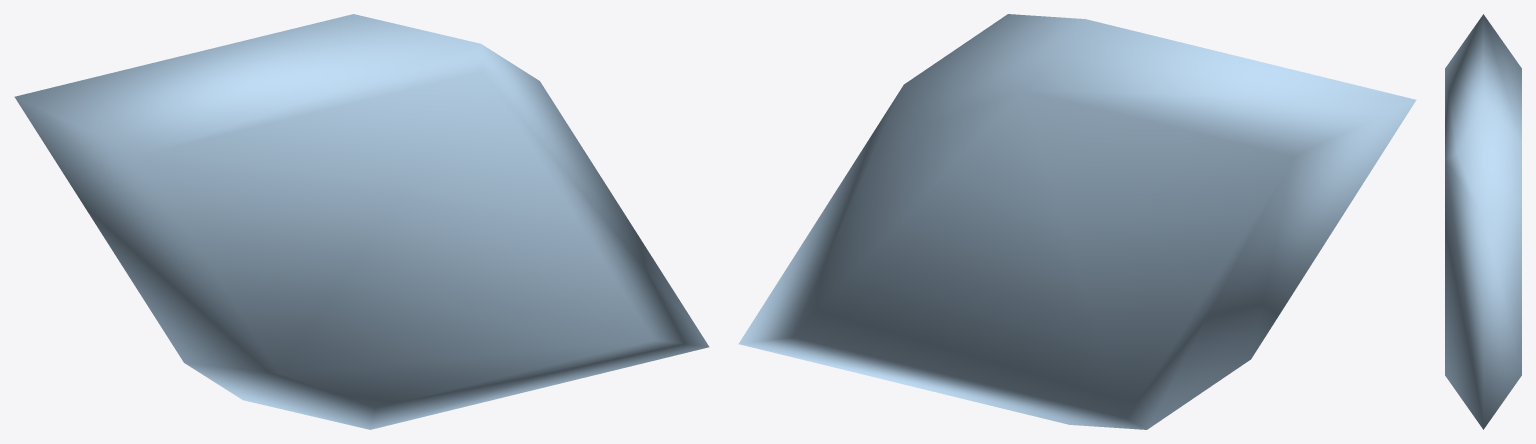
Rendered from ruby.glb.
The picture shows the model from 3 angles, left to right: view 1: azimuth 30°, elevation 25°; view 2: azimuth 150°, elevation 25°; view 3: azimuth 270°, elevation 25°; orthographic projection. The views are drawn at different scales.
Parts seen in each view (by area): view 1: ruby; view 2: ruby; view 3: ruby.
Boxes of the visible parts, x1,y1,x2,y2 form: ruby: (14, 14, 709, 429); ruby: (738, 14, 1416, 429); ruby: (1445, 14, 1521, 429).
Size of the model in its own units: 4.58 by 2.65 by 0.8.
